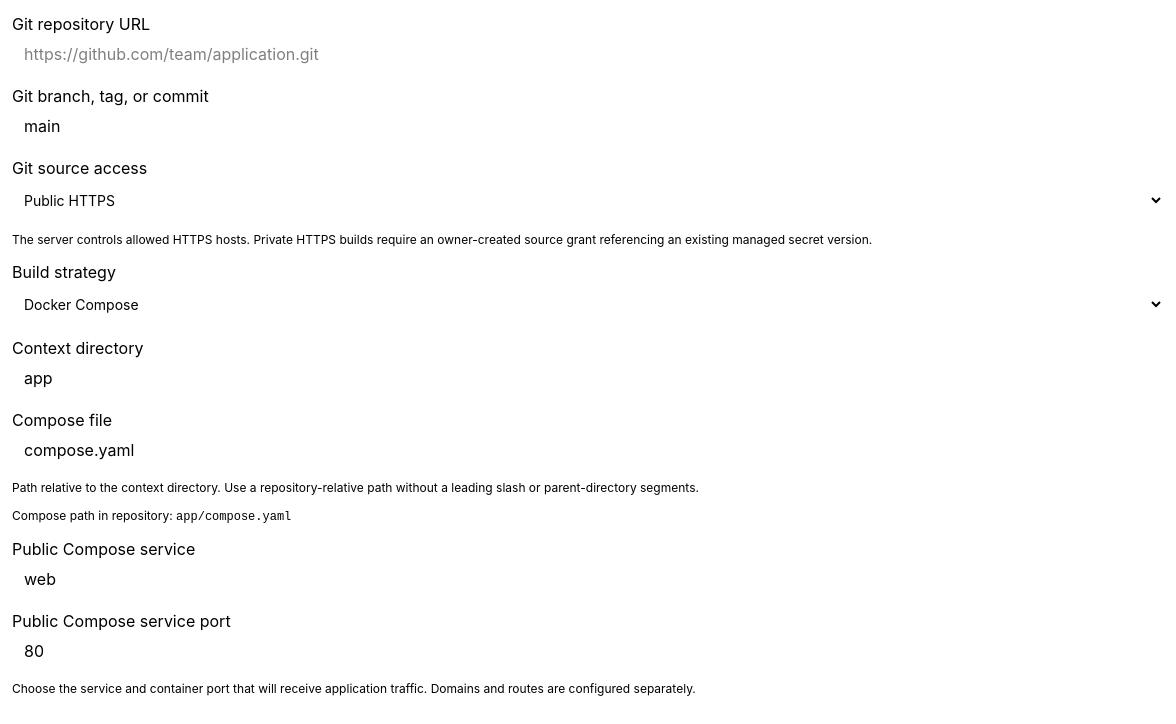
Scenario: switching Compose to dockerfile omits all Compose fields
Select "Dockerfile" in the dropdown labelled "Build strategy" at {"x": 588, "y": 304}, box [12,284,1164,324]
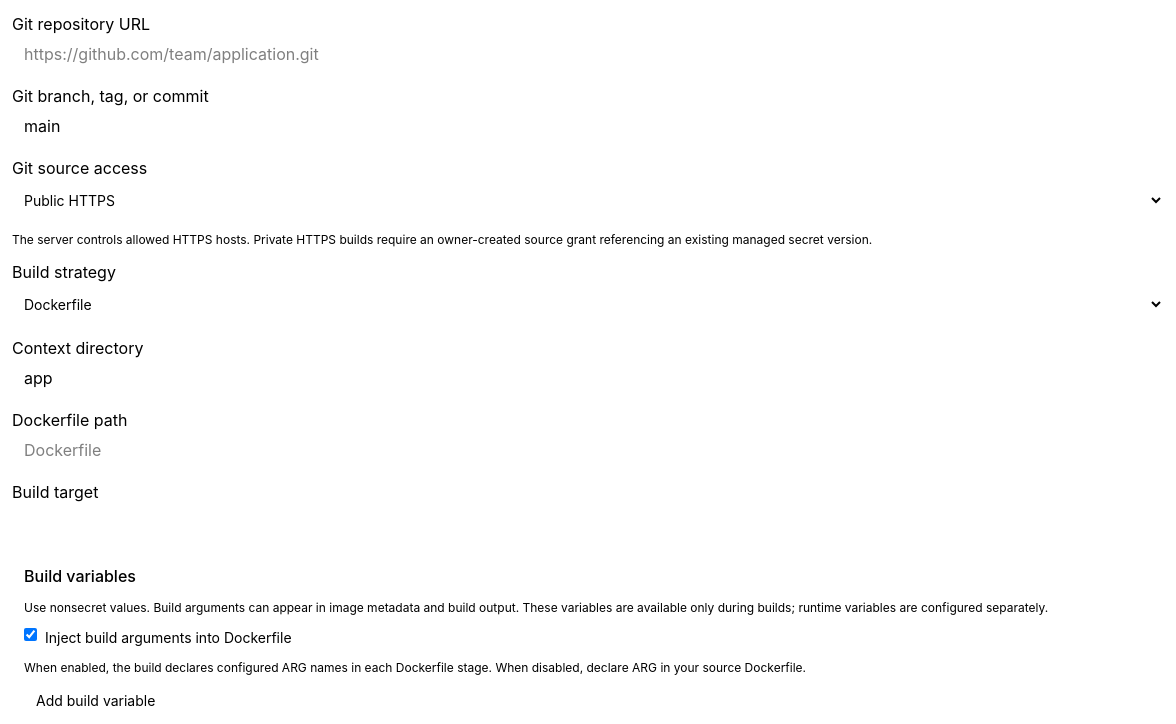
Check: the label labelled "Compose file" is gone
Check: the label labelled "Public Compose service" is gone
